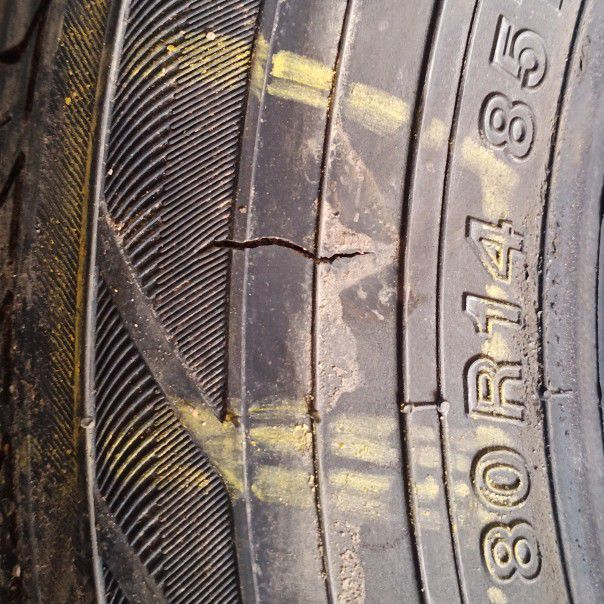cut: (198, 234, 374, 268)
